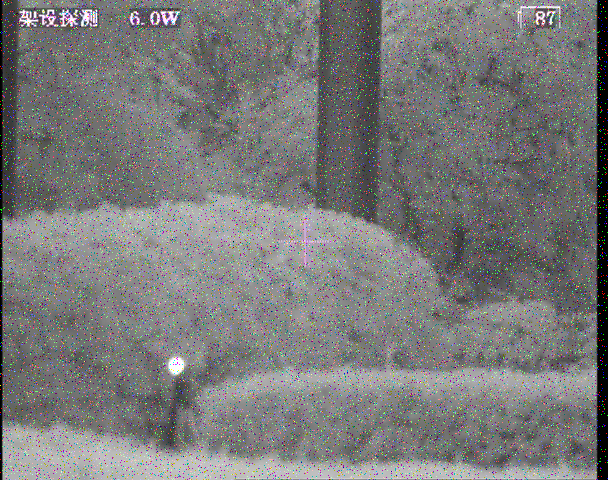my: (167, 355, 185, 377)
